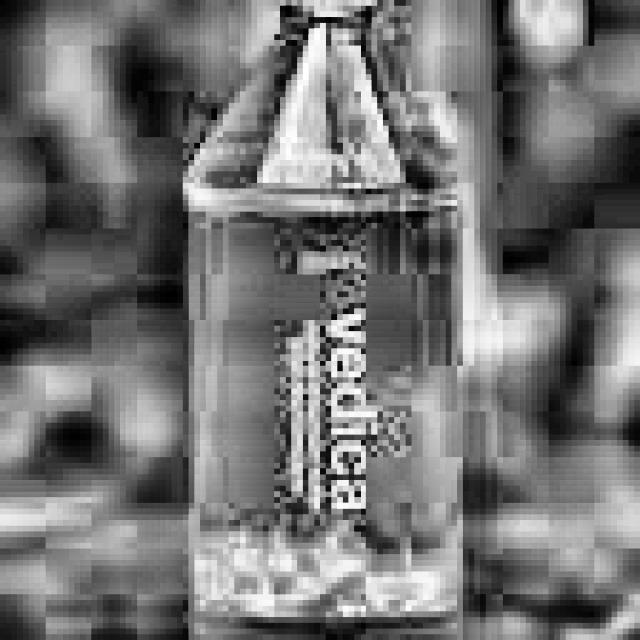bottle: (183, 0, 469, 640)
